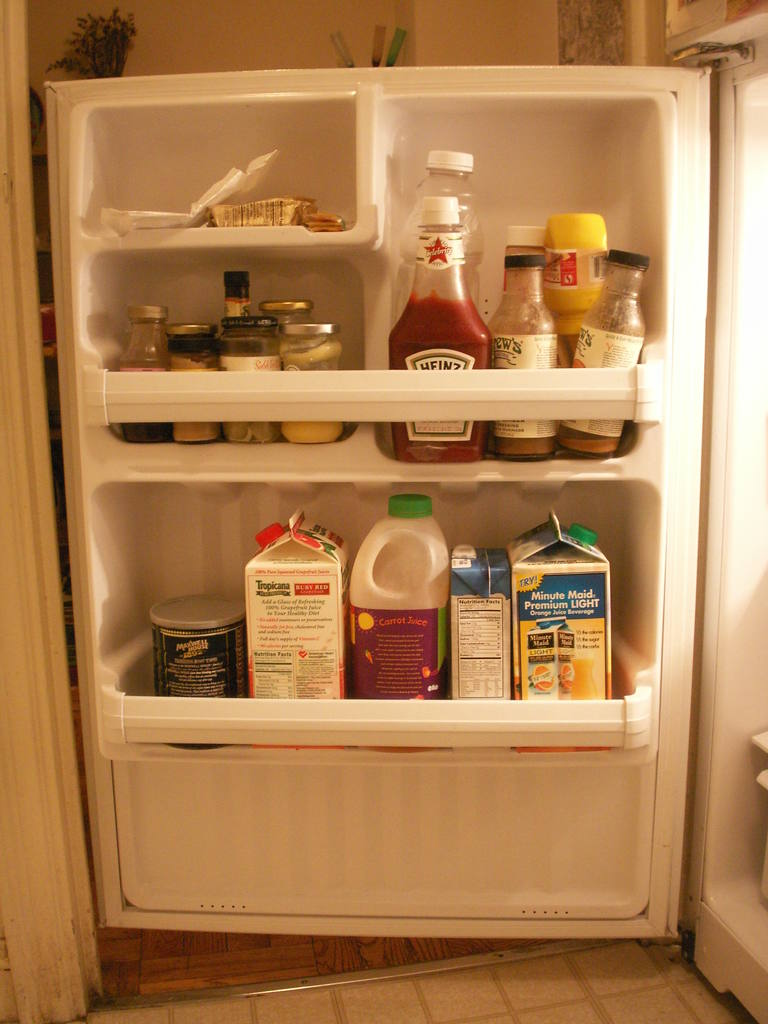refrigerator door: (59, 97, 679, 927)
